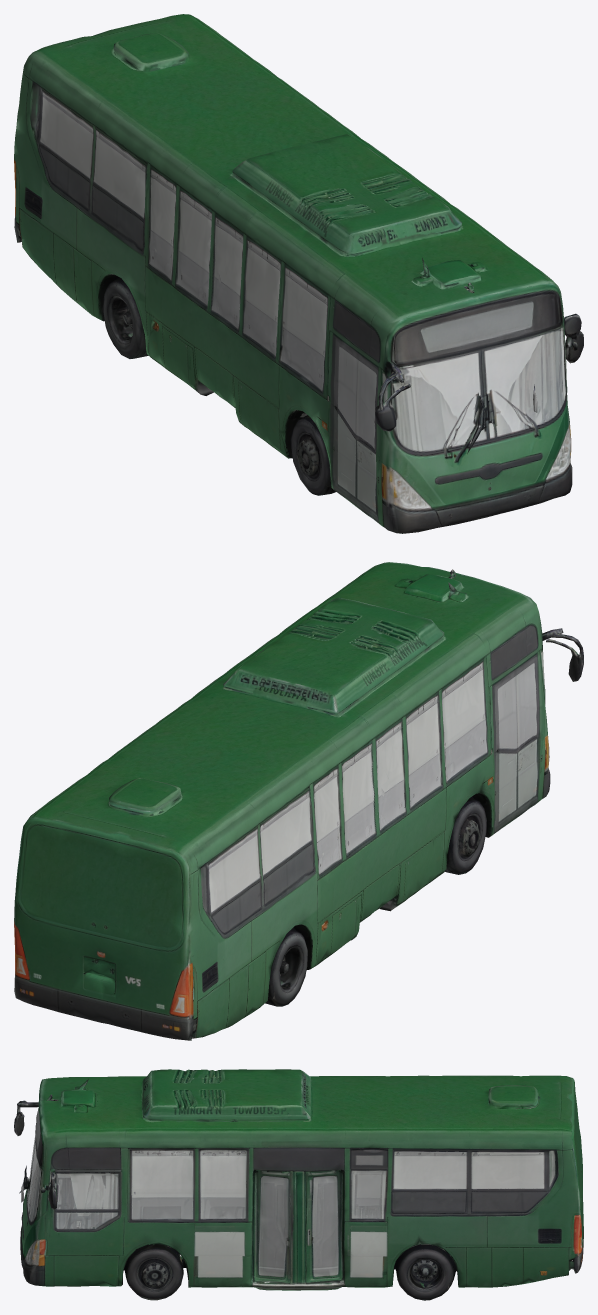
The model's file is bus.glb.
3 views of the same model, one above another, from view 1: azimuth 30°, elevation 25°; view 2: azimuth 150°, elevation 25°; view 3: azimuth 270°, elevation 25° (orthographic). The views are drawn at different scales.
Visible parts, largest first — view 1: texture_mapping; view 2: texture_mapping; view 3: texture_mapping.
Boxes of the visible parts, box(x1,y1,x2,y2) form: texture_mapping: box(14, 14, 583, 533); texture_mapping: box(14, 562, 583, 1040); texture_mapping: box(14, 1069, 583, 1300).
Bounding box in the file's own units: 0.3397 × 0.3558 × 0.9999.
Materials: 1 (1 with a texture image).
